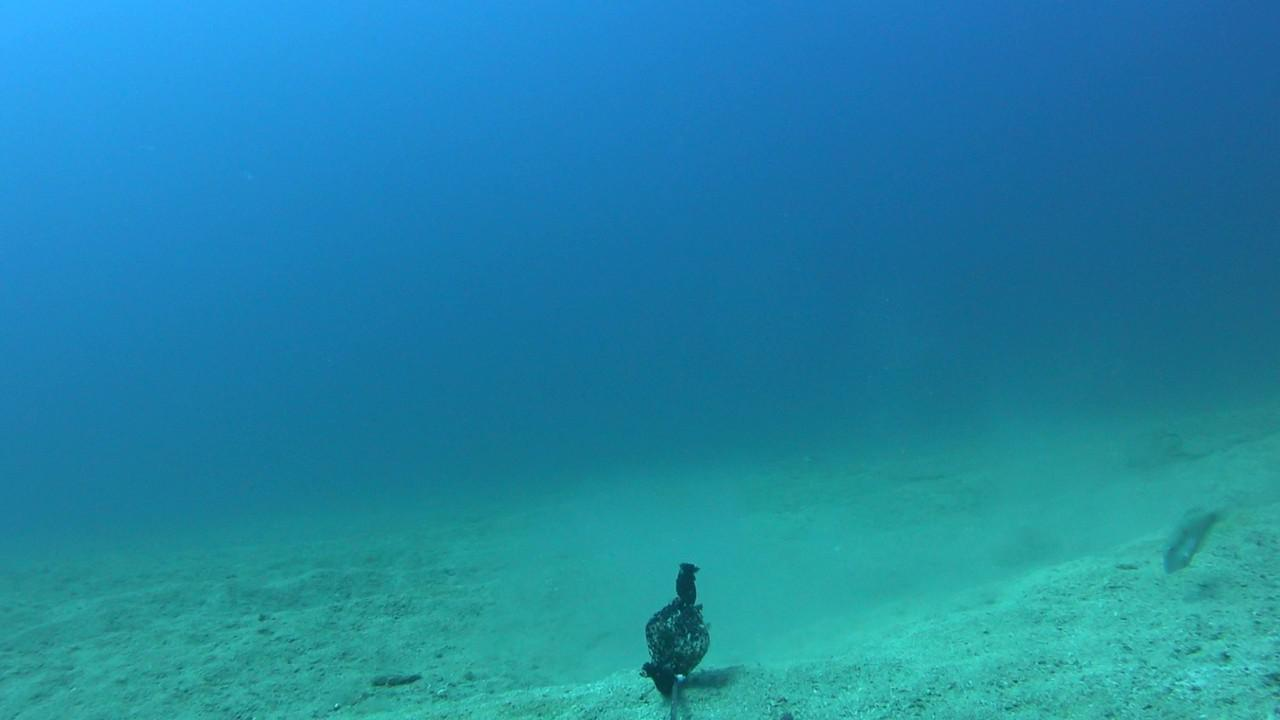myliobatis: (792, 443, 847, 488)
raor: (1161, 507, 1228, 572)
